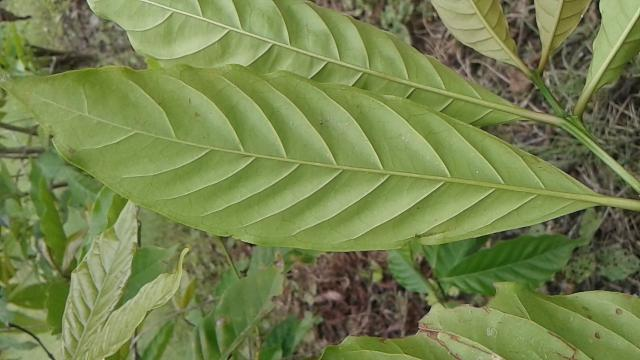healthy: (2, 65, 606, 248)
